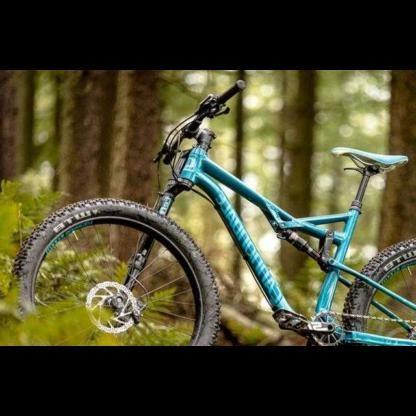Bicycle: (2, 71, 414, 345)
